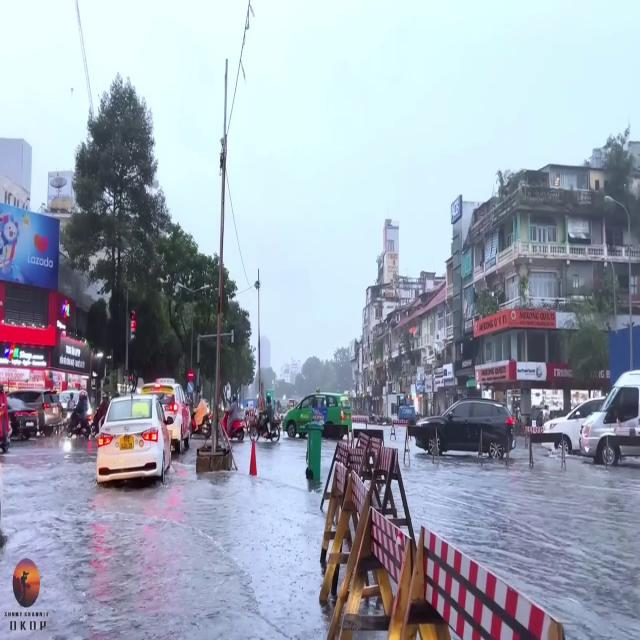bien_vang: (118, 434, 135, 449)
